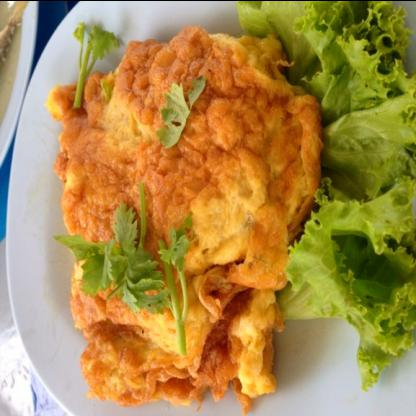Omelette: (50, 23, 336, 412)
